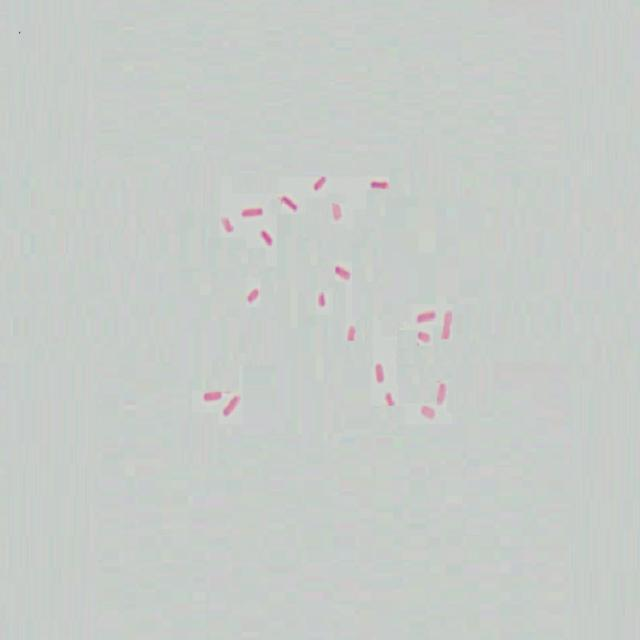E-coli: (222, 388, 242, 420), (440, 305, 455, 344), (279, 190, 299, 213), (414, 307, 436, 326), (245, 283, 261, 308), (334, 261, 352, 283), (239, 204, 265, 219), (371, 174, 391, 193), (218, 211, 234, 234), (201, 387, 220, 406), (415, 329, 434, 348), (373, 360, 386, 386), (258, 228, 275, 247), (311, 172, 326, 193), (315, 287, 329, 308), (418, 404, 436, 419), (330, 202, 343, 222), (346, 321, 357, 343), (437, 379, 448, 401), (384, 393, 397, 408)
